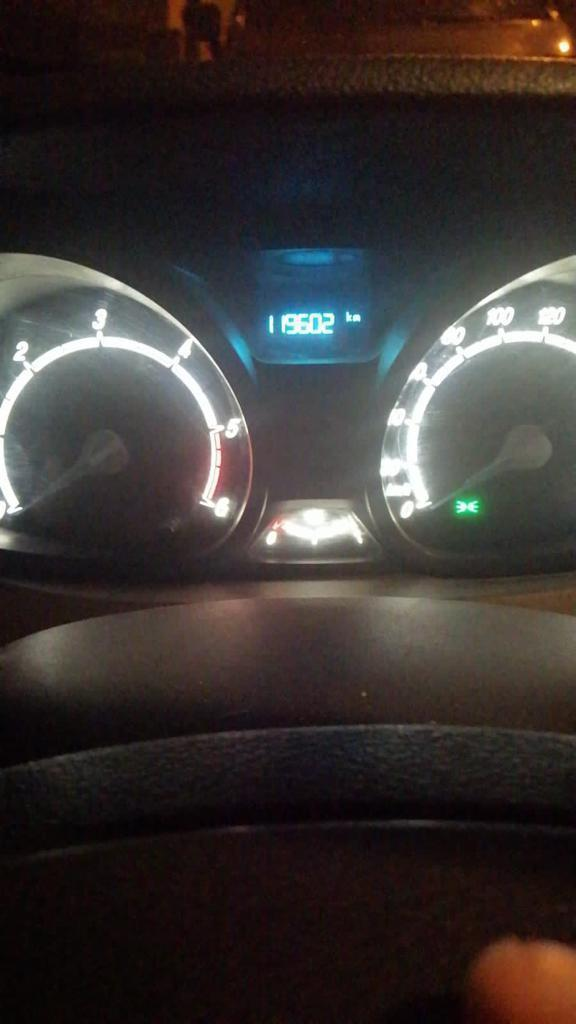0: (309, 312, 322, 334)
1: (268, 314, 274, 334), (280, 313, 285, 333)
2: (322, 312, 335, 334)
6: (297, 312, 309, 335)
9: (286, 312, 297, 334)
X: (353, 312, 361, 321), (345, 311, 352, 321)
odometer: (241, 280, 391, 365)
